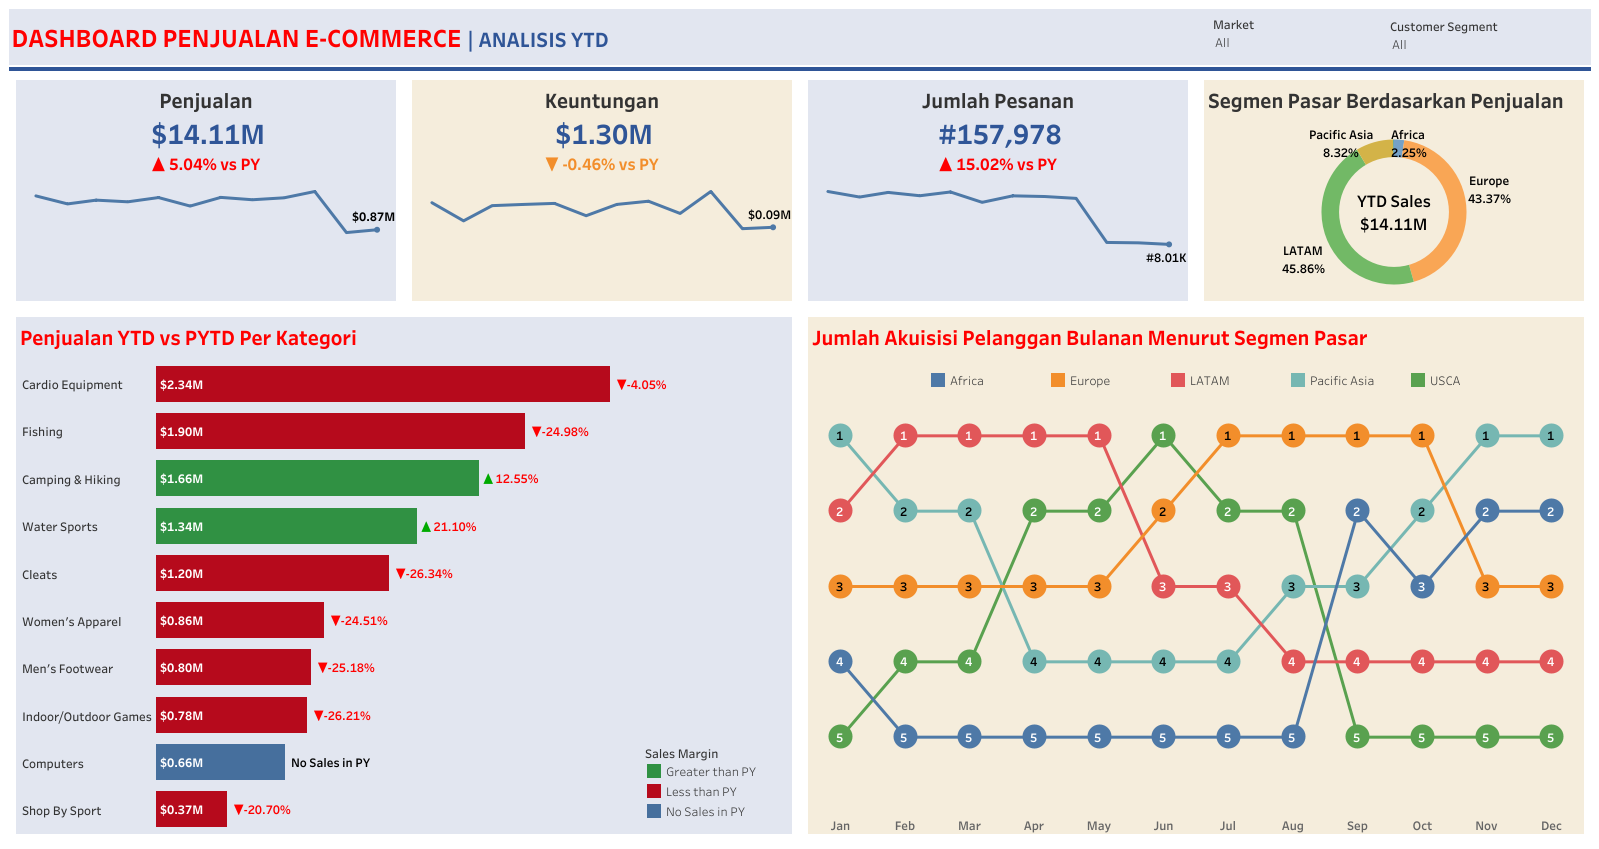

This screenshot's page, from the dashboard's own definition file:
{"tool":"tableau","page":{"name":"Dashboard","canvas":[1000,1000],"units":"permille","ordinal":0},"visuals":[{"type":"title","box":[5,9.4,990,68.2]},{"type":"filter","title":"Penjualan YTD vs PYTD Per Kategori","param":"[federated.1i99tlj1r1bo9l148l7q30g5inpd].[none:Market:nk]","box":[758.1,16.5,105,67.1]},{"type":"filter","title":"Jumlah Akuisisi Pelanggan Bulanan Menurut Segmen Pasar","param":"[federated.1i99tlj1r1bo9l148l7q30g5inpd].[none:Customer Segment:nk]","box":[868.8,18.8,100,51.8]},{"type":"blank","box":[5,77.6,990,7.1]},{"type":"worksheet","title":"Sales KPI","mark":"Automatic","rows":["Sales"],"cols":["Order Date"],"box":[5,84.7,247.5,278.7]},{"type":"worksheet","title":"Profit KPI","mark":"Automatic","rows":["Profit Per Order"],"cols":["Order Date"],"box":[252.5,84.7,247.5,278.7]},{"type":"worksheet","title":"Order Quantity KPI","mark":"Automatic","rows":["Order Quantity"],"cols":["Order Date"],"box":[500,84.7,247.5,278.8]},{"type":"worksheet","title":"Segmen Pasar","mark":"Pie","rows":["Calculation_1061160728018292749","Calculation_1061160728018321423"],"box":[747.5,84.7,247.5,278.8]},{"type":"worksheet","title":"Penjualan YTD vs PYTD Per Kategori","mark":"Bar","rows":["Additional Order items"],"cols":["Calculation_1061160728022818832","Calculation_1061160728022818832"],"box":[5,363.4,495,627.2]},{"type":"worksheet","title":"Jumlah Akuisisi Pelanggan Bulanan Menurut Segmen Pasar","mark":"Automatic","cols":["Order Date"],"box":[500,363.5,495,627.1]},{"type":"legend","title":"Jumlah Akuisisi Pelanggan Bulanan Menurut Segmen Pasar","param":"[federated.1i99tlj1r1bo9l148l7q30g5inpd].[none:Market:nk]","box":[580,435.3,380.6,36.5]},{"type":"legend","title":"Penjualan YTD vs PYTD Per Kategori","param":"[federated.1i99tlj1r1bo9l148l7q30g5inpd].[usr:YoY Sales Margin (copy)_1187824467","box":[402.5,872.9,87.5,91.8]}]}

Visuals, with their boxes on the dashboard's canvas, which has no fixed pixel size, in thousandths of its width and height (x1, y1, x2, y2). These are canvas units, not pixel positions in the 1599x849 screenshot, which may show the page scaled, cropped or inside an application window:
title: (5,9,995,78)
"Penjualan YTD vs PYTD Per Kategori" filter: (758,16,863,84)
"Jumlah Akuisisi Pelanggan Bulanan Menurut Segmen Pasar" filter: (869,19,969,71)
blank: (5,78,995,85)
"Sales KPI" worksheet: (5,85,252,363)
"Profit KPI" worksheet: (252,85,500,363)
"Order Quantity KPI" worksheet: (500,85,748,364)
"Segmen Pasar" worksheet (Pie marks): (748,85,995,364)
"Penjualan YTD vs PYTD Per Kategori" worksheet (Bar marks): (5,363,500,991)
"Jumlah Akuisisi Pelanggan Bulanan Menurut Segmen Pasar" worksheet: (500,364,995,991)
"Jumlah Akuisisi Pelanggan Bulanan Menurut Segmen Pasar" legend: (580,435,961,472)
"Penjualan YTD vs PYTD Per Kategori" legend: (402,873,490,965)
